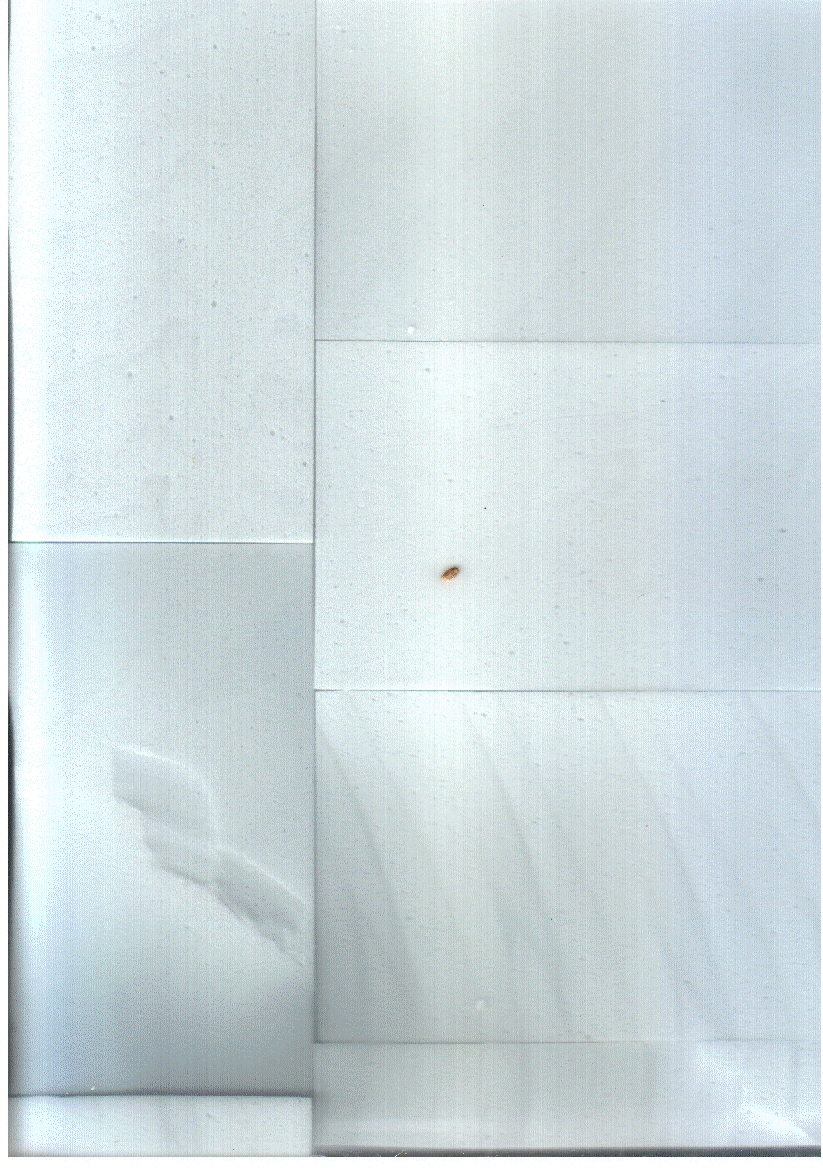grains: (429, 544, 472, 599)
